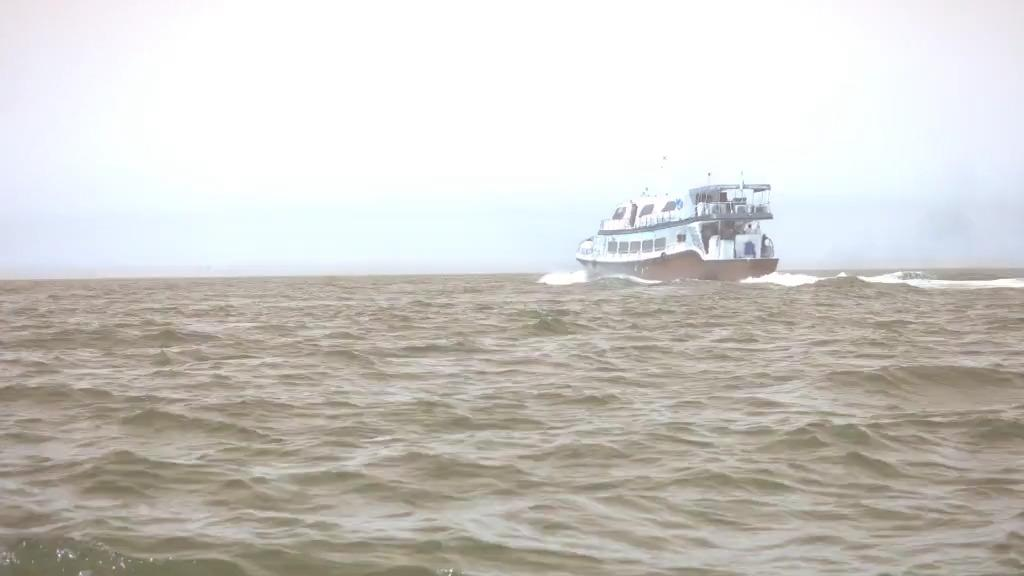PassengerShip: (571, 151, 787, 287)
